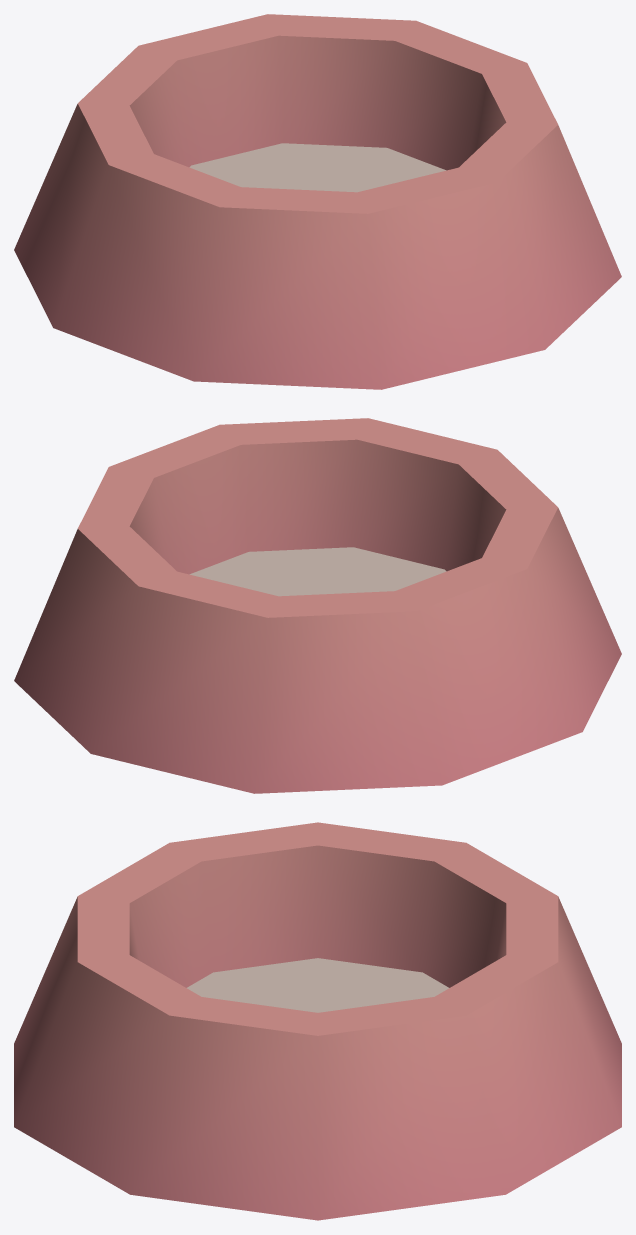
The model's file is pet-food.glb.
3 views of the same model, one above another, from view 1: azimuth 30°, elevation 25°; view 2: azimuth 150°, elevation 25°; view 3: azimuth 270°, elevation 25° (orthographic). The views are drawn at different scales.
Visible parts, largest first — view 1: pet-food; view 2: pet-food; view 3: pet-food.
Part boxes in pixels (x1,y1,x2,y2): pet-food: (14, 14, 621, 389); pet-food: (14, 418, 621, 793); pet-food: (14, 822, 621, 1220).
Bounding box in the file's own units: 0.3197 × 0.0862 × 0.3041.
